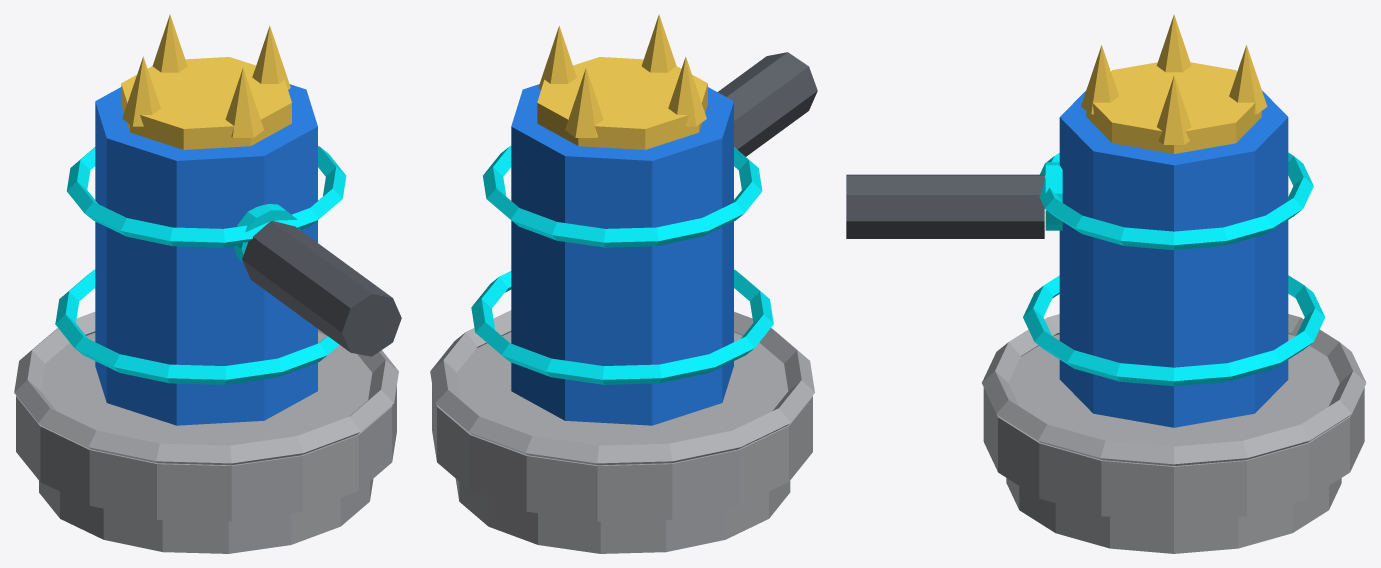
Rendered from TD_BasicTower_T3.fbx.
The picture shows the model from 3 angles, left to right: view 1: azimuth 30°, elevation 25°; view 2: azimuth 150°, elevation 25°; view 3: azimuth 270°, elevation 25°; orthographic projection.
Visible parts, largest first — view 1: TD_BasicTower_T3_Body, TD_BasicTower_T3_Base, TD_BasicTower_T3_Barrel, TD_BasicTower_T3_BaseShieldRing, TD_BasicTower_T3_Pedestal, TD_BasicTower_T3_TopCrownBand, TD_BasicTower_T3_LowerAccentRing, TD_BasicTower_T3_UpperAccentRing, TD_BasicTower_T3_CrownPoint_4, TD_BasicTower_T3_CrownPoint_2, TD_BasicTower_T3_CrownPoint_1, TD_BasicTower_T3_CrownPoint_3 (+1 smaller); view 2: TD_BasicTower_T3_Body, TD_BasicTower_T3_Base, TD_BasicTower_T3_BaseShieldRing, TD_BasicTower_T3_Pedestal, TD_BasicTower_T3_TopCrownBand, TD_BasicTower_T3_LowerAccentRing, TD_BasicTower_T3_UpperAccentRing, TD_BasicTower_T3_Barrel, TD_BasicTower_T3_CrownPoint_3, TD_BasicTower_T3_CrownPoint_2, TD_BasicTower_T3_CrownPoint_1, TD_BasicTower_T3_CrownPoint_4; view 3: TD_BasicTower_T3_Body, TD_BasicTower_T3_Base, TD_BasicTower_T3_Barrel, TD_BasicTower_T3_BaseShieldRing, TD_BasicTower_T3_TopCrownBand, TD_BasicTower_T3_Pedestal, TD_BasicTower_T3_LowerAccentRing, TD_BasicTower_T3_UpperAccentRing, TD_BasicTower_T3_CrownPoint_1, TD_BasicTower_T3_CrownPoint_3, TD_BasicTower_T3_CrownPoint_4, TD_BasicTower_T3_CrownPoint_2 (+1 smaller).
Part boxes in pixels (bbox=[...]): TD_BasicTower_T3_Body: bbox=[95, 84, 317, 425]; TD_BasicTower_T3_Base: bbox=[16, 332, 396, 521]; TD_BasicTower_T3_Barrel: bbox=[242, 221, 401, 356]; TD_BasicTower_T3_BaseShieldRing: bbox=[14, 312, 398, 465]; TD_BasicTower_T3_Pedestal: bbox=[39, 478, 373, 553]; TD_BasicTower_T3_TopCrownBand: bbox=[121, 57, 291, 149]; TD_BasicTower_T3_LowerAccentRing: bbox=[55, 269, 339, 384]; TD_BasicTower_T3_UpperAccentRing: bbox=[67, 146, 346, 247]; TD_BasicTower_T3_CrownPoint_4: bbox=[225, 68, 263, 137]; TD_BasicTower_T3_CrownPoint_2: bbox=[122, 56, 160, 126]; TD_BasicTower_T3_CrownPoint_1: bbox=[252, 25, 290, 89]; TD_BasicTower_T3_CrownPoint_3: bbox=[152, 14, 187, 72]; TD_BasicTower_T3_Body: bbox=[511, 84, 733, 425]; TD_BasicTower_T3_Base: bbox=[432, 332, 812, 521]; TD_BasicTower_T3_BaseShieldRing: bbox=[430, 310, 814, 465]; TD_BasicTower_T3_Pedestal: bbox=[455, 479, 790, 553]; TD_BasicTower_T3_TopCrownBand: bbox=[537, 57, 707, 149]; TD_BasicTower_T3_LowerAccentRing: bbox=[471, 269, 773, 384]; TD_BasicTower_T3_UpperAccentRing: bbox=[483, 146, 762, 247]; TD_BasicTower_T3_Barrel: bbox=[717, 52, 817, 156]; TD_BasicTower_T3_CrownPoint_3: bbox=[565, 68, 603, 137]; TD_BasicTower_T3_CrownPoint_2: bbox=[668, 56, 706, 126]; TD_BasicTower_T3_CrownPoint_1: bbox=[538, 26, 576, 89]; TD_BasicTower_T3_CrownPoint_4: bbox=[641, 14, 676, 72]; TD_BasicTower_T3_Body: bbox=[1059, 90, 1288, 427]; TD_BasicTower_T3_Base: bbox=[983, 334, 1364, 522]; TD_BasicTower_T3_Barrel: bbox=[846, 174, 1044, 238]; TD_BasicTower_T3_BaseShieldRing: bbox=[982, 314, 1366, 465]; TD_BasicTower_T3_TopCrownBand: bbox=[1086, 62, 1261, 153]; TD_BasicTower_T3_Pedestal: bbox=[1006, 478, 1341, 553]; TD_BasicTower_T3_LowerAccentRing: bbox=[1023, 275, 1325, 386]; TD_BasicTower_T3_UpperAccentRing: bbox=[1039, 152, 1313, 250]; TD_BasicTower_T3_CrownPoint_1: bbox=[1156, 75, 1191, 144]; TD_BasicTower_T3_CrownPoint_3: bbox=[1229, 45, 1267, 114]; TD_BasicTower_T3_CrownPoint_4: bbox=[1081, 45, 1118, 114]; TD_BasicTower_T3_CrownPoint_2: bbox=[1156, 14, 1191, 72].
Bounding box in the file's own units: 1.01 × 1.27 × 1.36.
